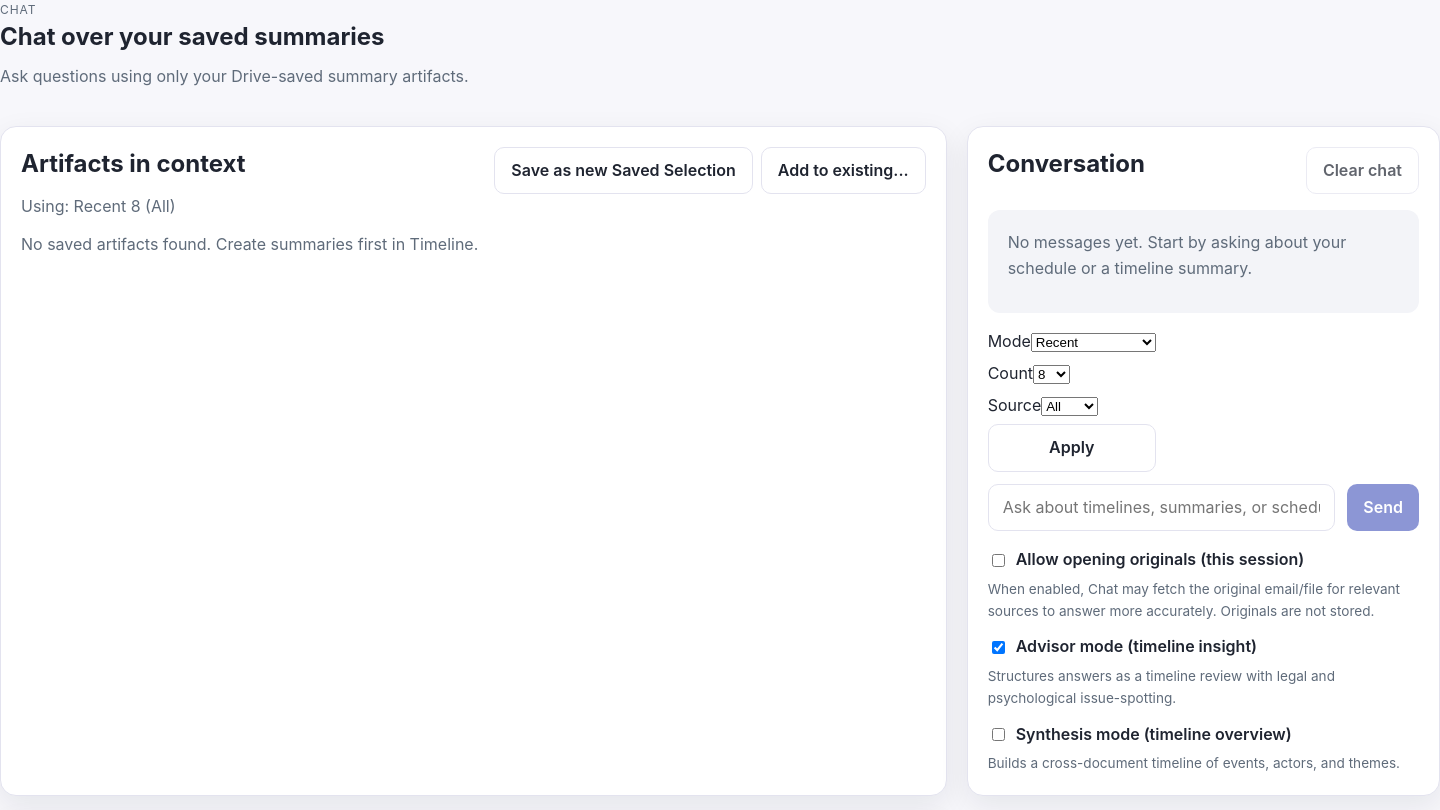
ChatPageClient › shows mapped provider error message for code rate_limited
Type "trigger error" into the field named "chat input" at [1162, 508], box [988, 484, 1335, 531]
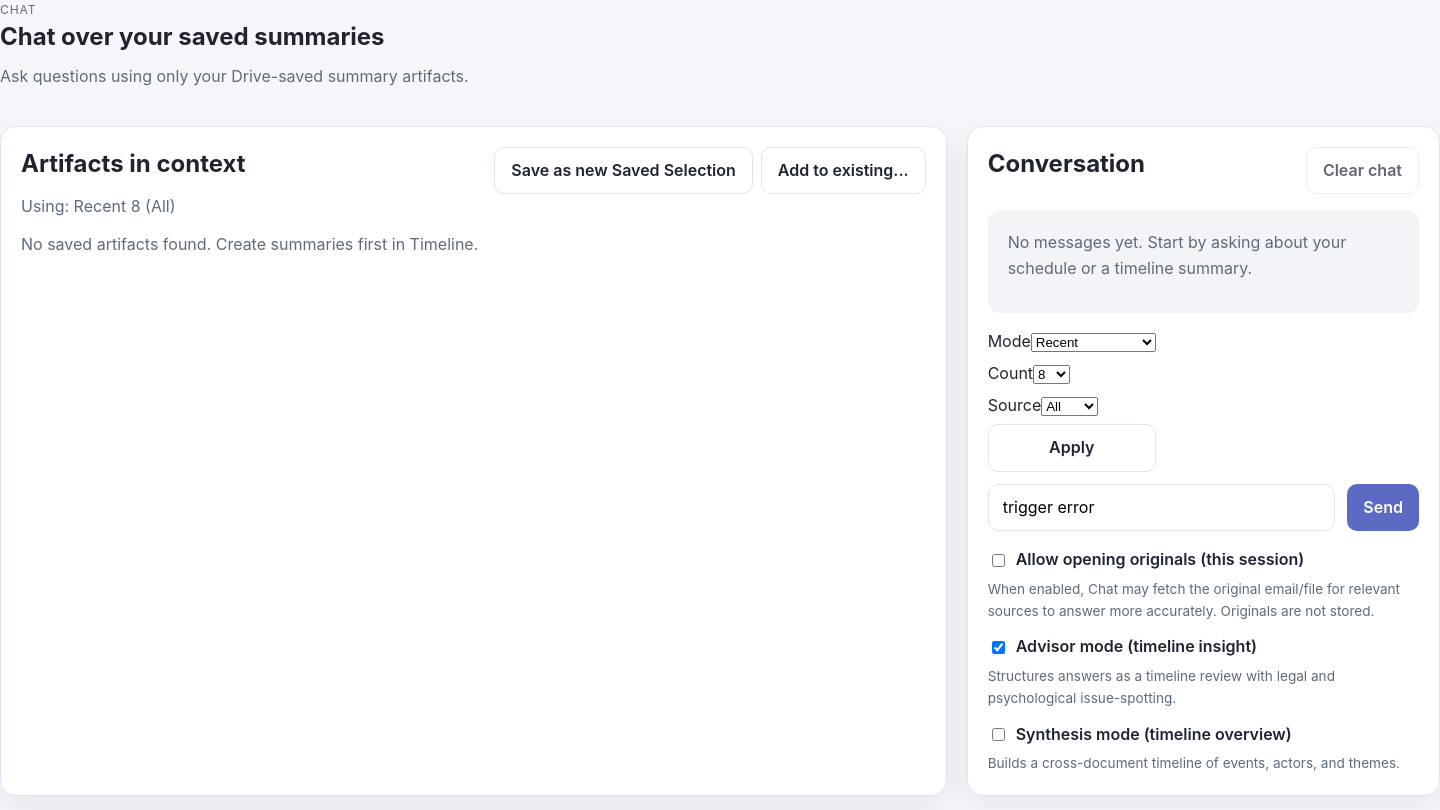
Click the button "Send" at [1383, 508], box [1347, 484, 1419, 531]
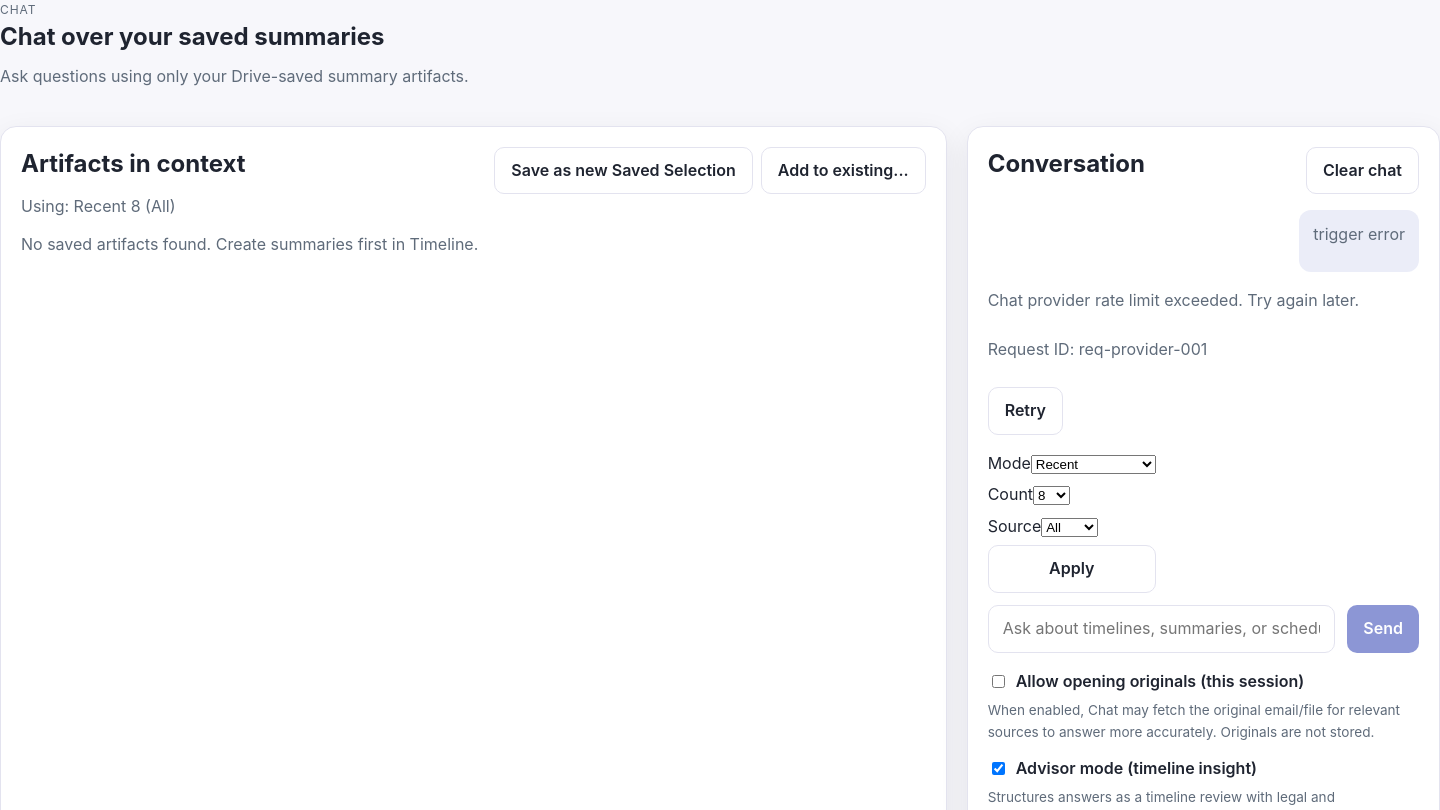
Check: the text "Chat provider rate limit exceeded. Try again later." is shown, box [988, 288, 1419, 313]
Check: the text "Request ID: req-provider-001" is shown, box [988, 339, 1207, 359]
